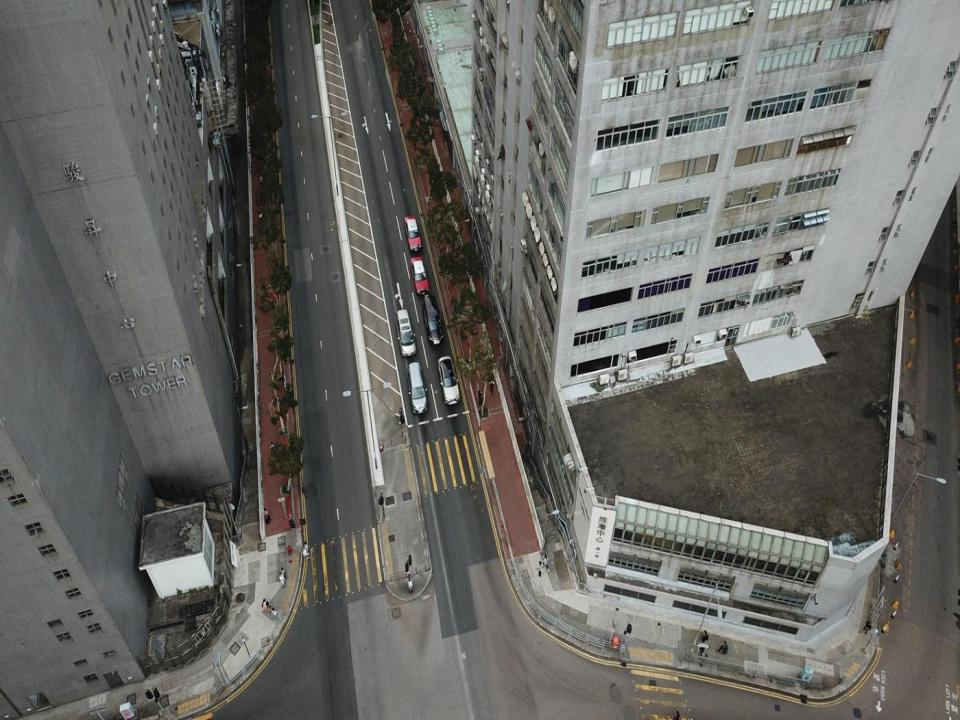car: (437, 355, 459, 405), (409, 255, 429, 295), (404, 215, 422, 249)
van: (421, 294, 446, 346), (407, 361, 428, 415), (394, 309, 417, 357)
